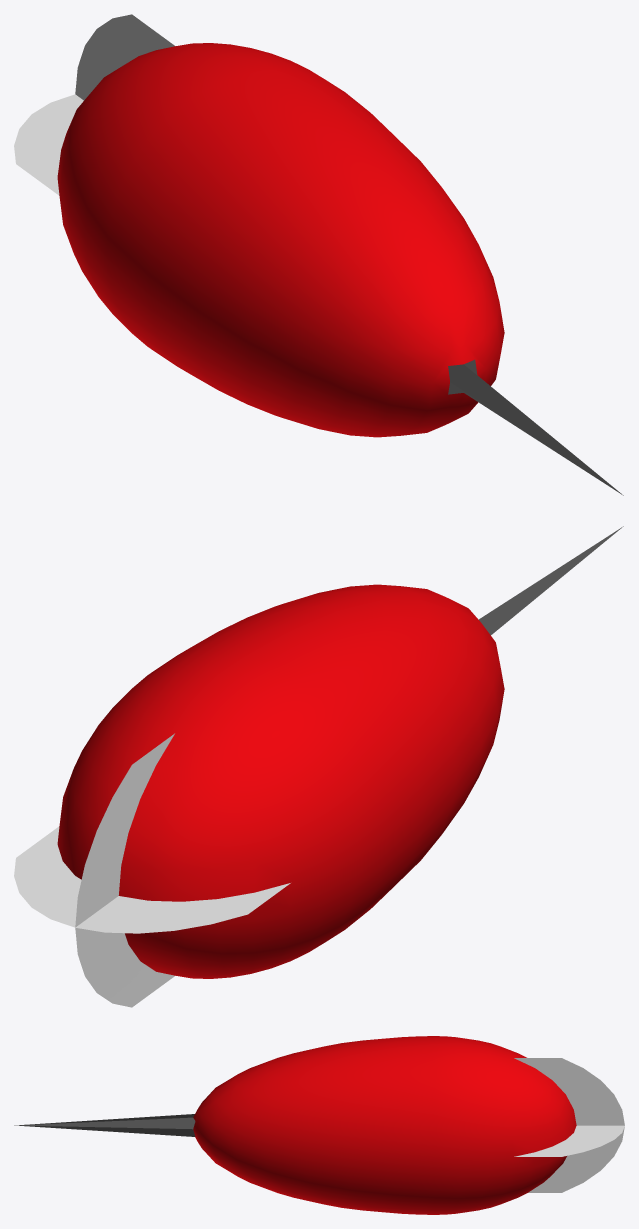
File: dardo.fbx
The picture shows the model from 3 angles, top to bottom: view 1: azimuth 30°, elevation 25°; view 2: azimuth 150°, elevation 25°; view 3: azimuth 270°, elevation 25°; orthographic projection. The views are drawn at different scales.
Parts seen in each view (by area): view 1: Sphere; view 2: Sphere; view 3: Sphere.
Boxes of the visible parts, x1=… form: Sphere: x1=14, y1=14, x2=623, y2=495; Sphere: x1=14, y1=526, x2=623, y2=1007; Sphere: x1=14, y1=1036, x2=624, y2=1214.
Bounding box in the file's own units: 96.81 × 96.81 × 330.
